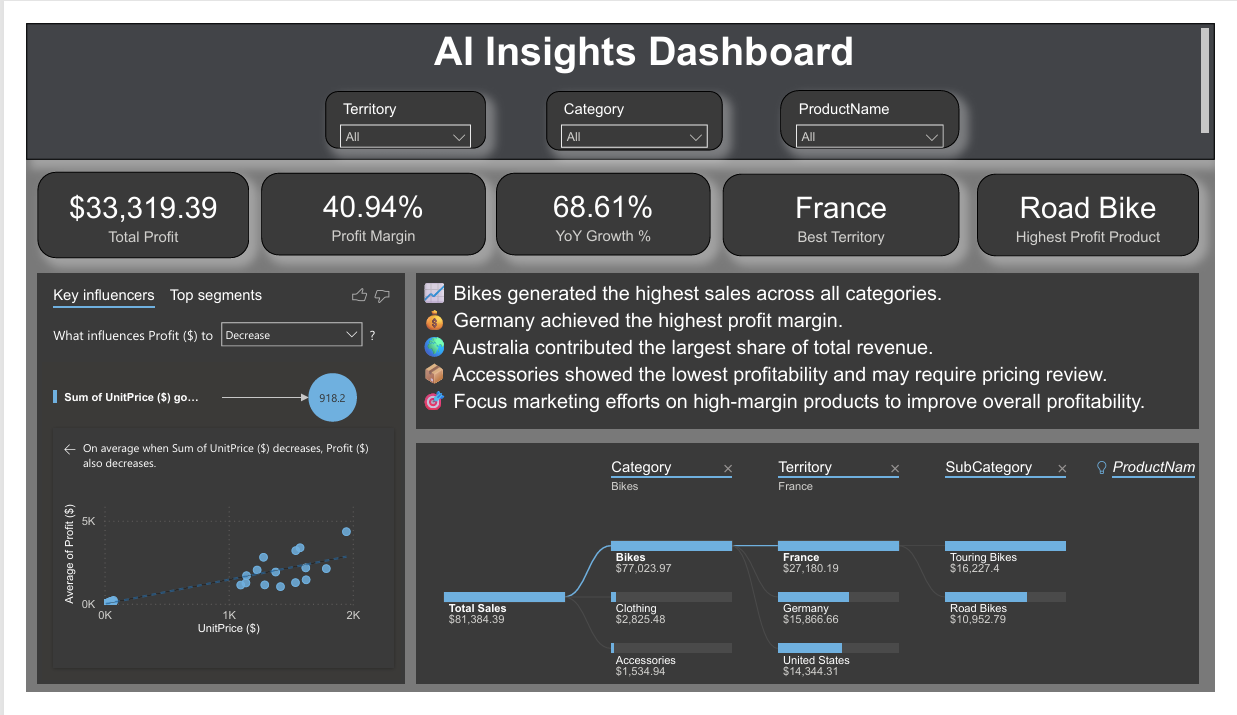

What the dashboard file says about the page in this screenshot:
{"tool":"powerbi","page":{"name":"Page 7","canvas":[1280,720],"ordinal":6},"visuals":[{"type":"textbox","box":[0,0,1280,146.7],"z":0},{"type":"card","fields":{"Values":["Sales Data.Total Profit"]},"box":[11.7,160,228.3,93.3],"z":1000},{"type":"slicer","fields":{"Values":["Sales Data.Territory"]},"box":[321.7,73.3,173.3,61.7],"z":2000},{"type":"slicer","fields":{"Values":["Sales Data.Category"]},"box":[560,73.3,190,63.3],"z":3000},{"type":"slicer","fields":{"Values":["Sales Data.ProductName"]},"box":[811.7,71.7,193.3,63.3],"z":4000},{"type":"card","fields":{"Values":["Sales Data.Profit Margin"]},"box":[252.9,160.5,242.3,89.3],"z":5000},{"type":"card","fields":{"Values":["Sales Data.YoY Growth %"]},"box":[505.7,160.5,231.7,89.3],"z":6000},{"type":"card","fields":{"Values":["Sales Data.Best Territory"]},"box":[749.5,162,255.9,89.3],"z":7000},{"type":"keyDriversVisual","fields":{"Target":["Sales Data.Profit ($)"],"ExplainBy":["Sales Data.Category","Sales Data.SubCategory","Sales Data.ProductName","Sales Data.OrderStatus","Sum(Sales Data.UnitPrice ($))","Sum(Sales Data.Quantity)","Sales Data.Territory"]},"box":[11.7,270,396.7,441.7],"z":8000},{"type":"decompositionTreeVisual","fields":{"Analyze":["Sales Data.Total Sales"],"ExplainBy":["Sales Data.Category","Sales Data.Territory","Sales Data.SubCategory","Sales Data.ProductName"]},"box":[420,453.3,843.3,258.3],"z":9000},{"type":"textbox","box":[420,270,843.3,168.3],"z":10000},{"type":"card","fields":{"Values":["Sales Data.Highest Profit Product"]},"box":[1023.6,162,239.2,89.3],"z":11000}]}

Visuals, with their boxes in screenshot pixels (x1, y1, x2, y2), scaled from the page's 1280x720 canvas onto the 1237x715 screenshot:
textbox: <box>0,0,1236,146</box>
card - Sales Data.Total Profit: <box>11,159,232,252</box>
slicer - Sales Data.Territory: <box>311,73,478,134</box>
slicer - Sales Data.Category: <box>541,73,725,136</box>
slicer - Sales Data.ProductName: <box>784,71,971,134</box>
card - Sales Data.Profit Margin: <box>244,159,479,248</box>
card - Sales Data.YoY Growth %: <box>489,159,713,248</box>
card - Sales Data.Best Territory: <box>724,161,972,250</box>
keyDriversVisual - Sales Data.Profit ($) x Sales Data.Category: <box>11,268,395,707</box>
decompositionTreeVisual - Sales Data.Total Sales x Sales Data.Category: <box>406,450,1221,707</box>
textbox: <box>406,268,1221,435</box>
card - Sales Data.Highest Profit Product: <box>989,161,1220,250</box>
